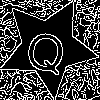Q: (23, 22, 70, 76)
